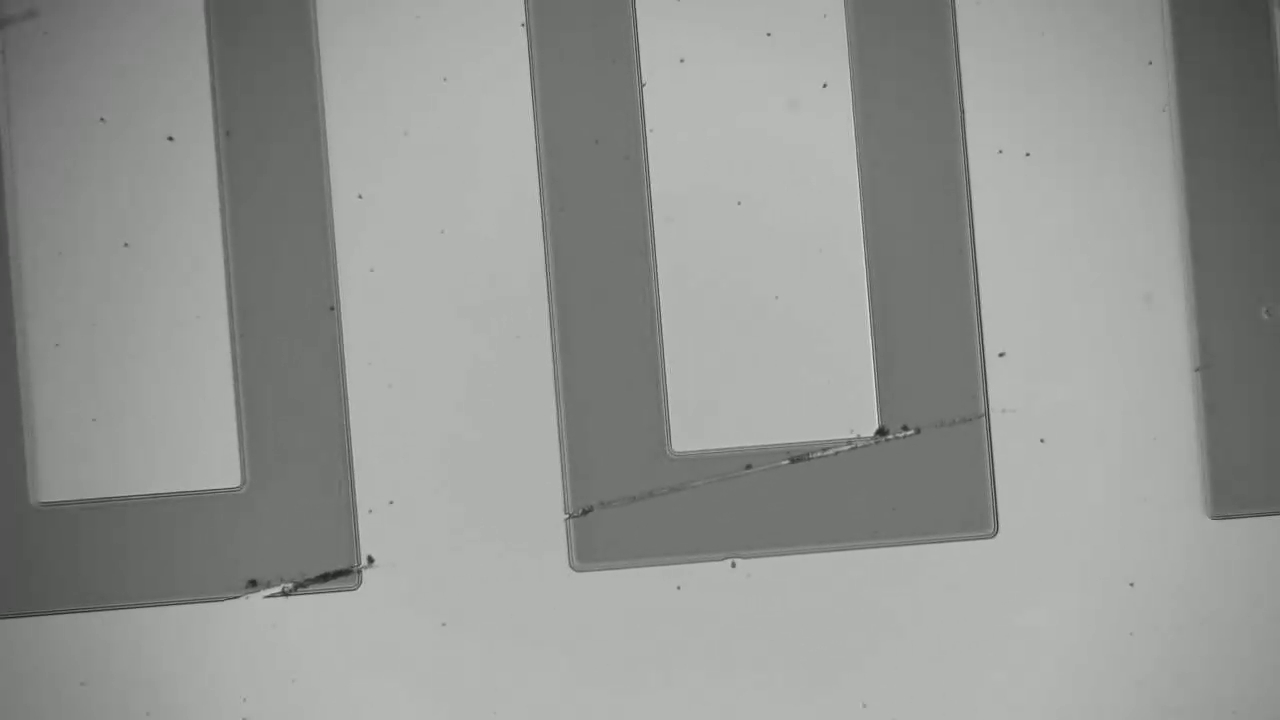scratch: (578, 409, 985, 516), (242, 560, 360, 595)
